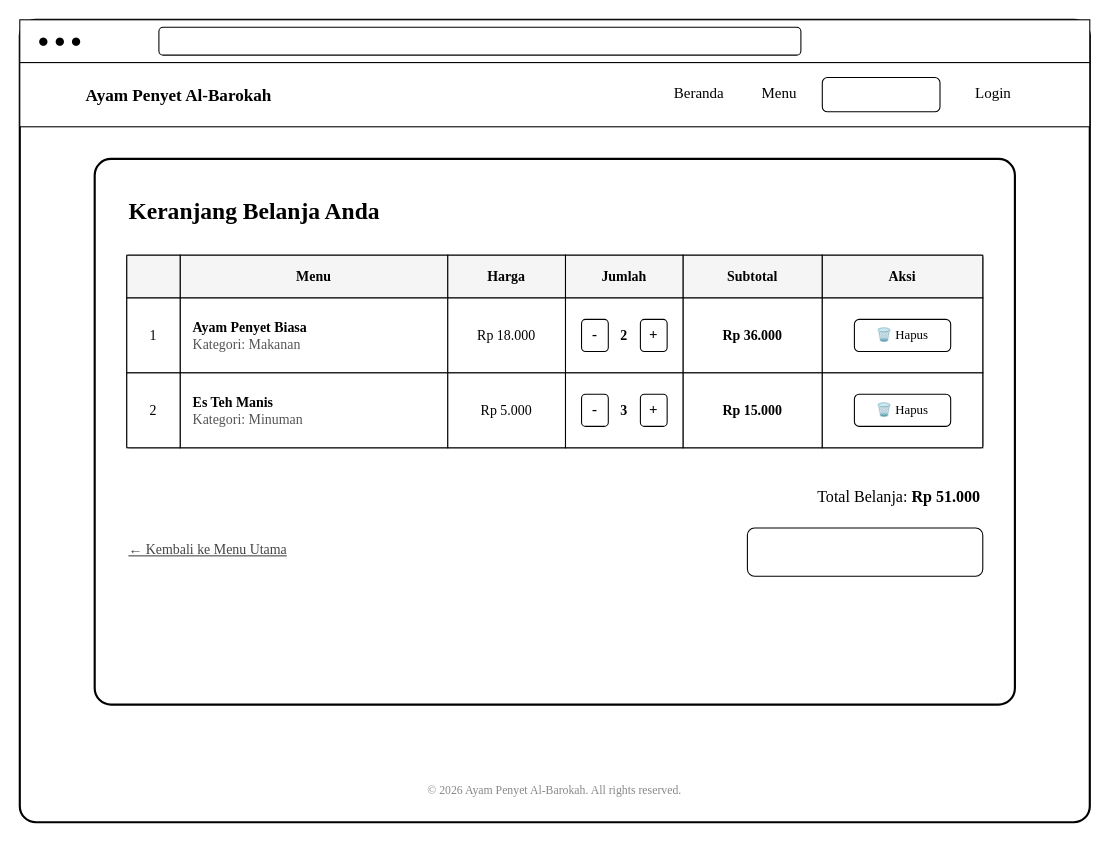
Some shapes in this 1109 by 841 pixel diagram are drawn without their labels. Each missing label, with the centre of its shape:
http://localhost/ayam-penyet/fitur_pemesanan/keranjang.php: point 479,40
Keranjang (2): point 880,94
Lanjut ke Checkout: point 864,551
No: point 153,276
